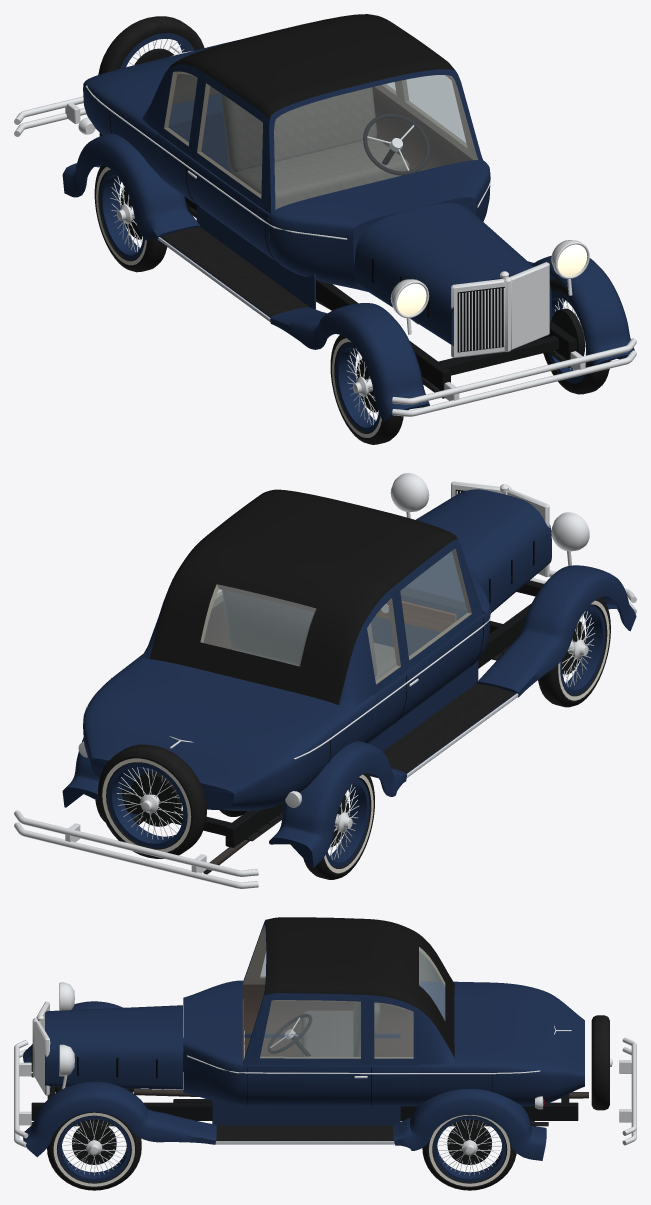
Rendered from vintage-coupe.glb.
3 views of the same model, one above another, from view 1: azimuth 30°, elevation 25°; view 2: azimuth 150°, elevation 25°; view 3: azimuth 270°, elevation 25° (orthographic). The views are drawn at different scales.
Parts seen in each view (by area): view 1: Vintage_Coupe, Wheel_FR, Wheel_RR, Wheel_FL; view 2: Vintage_Coupe, Wheel_FR, Wheel_RR; view 3: Vintage_Coupe, Wheel_FL, Wheel_RL.
Part boxes in pixels (x1,y1,x2,y2): Vintage_Coupe: (14, 14, 636, 421); Wheel_FR: (330, 335, 403, 444); Wheel_RR: (94, 165, 167, 272); Wheel_FL: (543, 278, 610, 394); Vintage_Coupe: (14, 473, 636, 888); Wheel_FR: (538, 597, 610, 707); Wheel_RR: (303, 773, 374, 879); Vintage_Coupe: (14, 917, 636, 1160); Wheel_FL: (47, 1112, 141, 1190); Wheel_RL: (422, 1115, 516, 1190).
Size of the model in its own units: 1.74 by 1.69 by 4.73.
22 materials, 4 textured.
